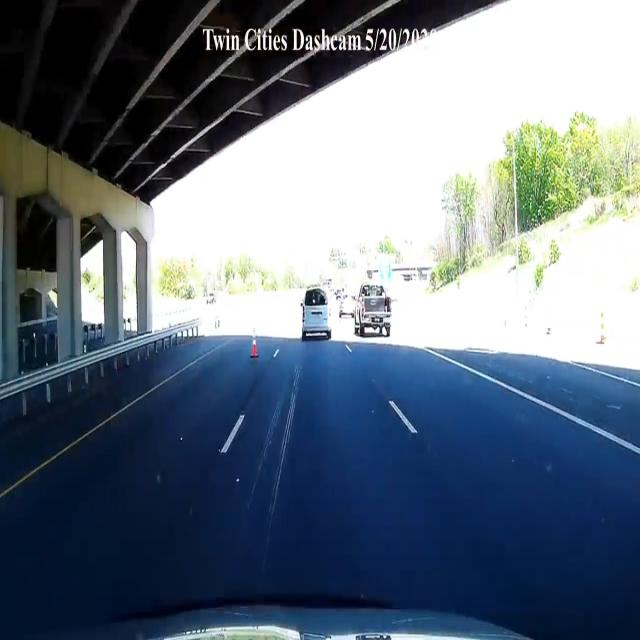cone: (250, 328, 260, 361)
